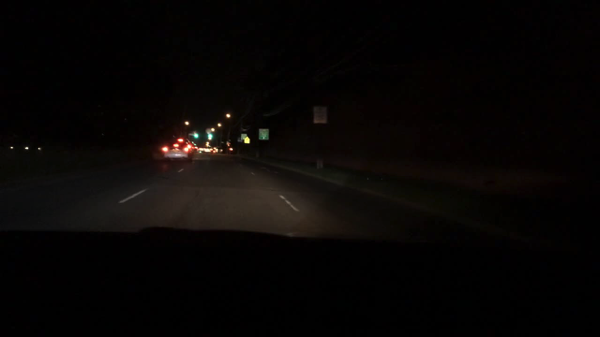car: (162, 136, 193, 162), (189, 141, 198, 153), (213, 147, 222, 155), (204, 146, 212, 153)
traffic light: (194, 132, 198, 140), (209, 133, 213, 140)
traffic sign: (313, 106, 328, 124), (258, 129, 269, 140), (240, 133, 248, 140), (243, 137, 250, 144)
